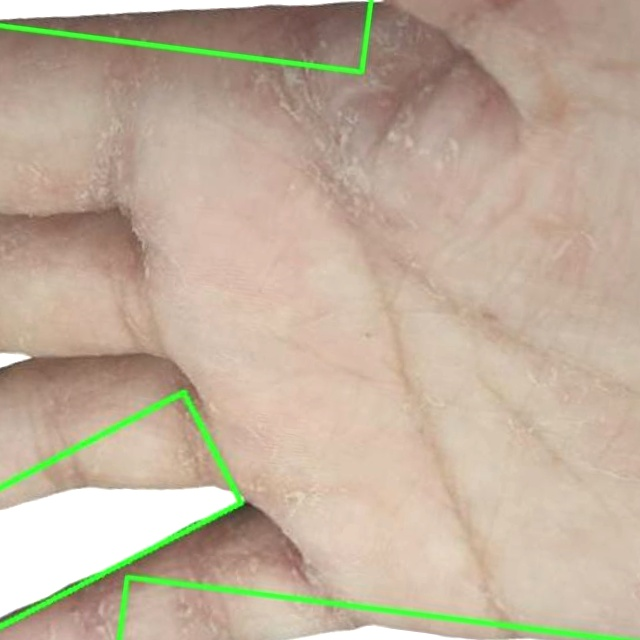Scabies: (0, 391, 239, 626)
